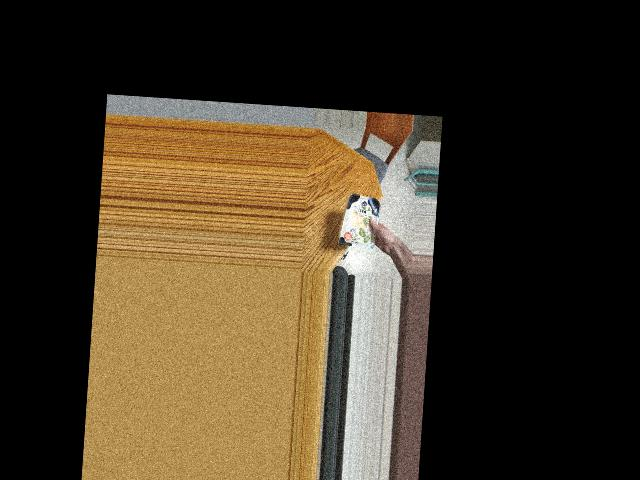cheese: (338, 193, 386, 249)
